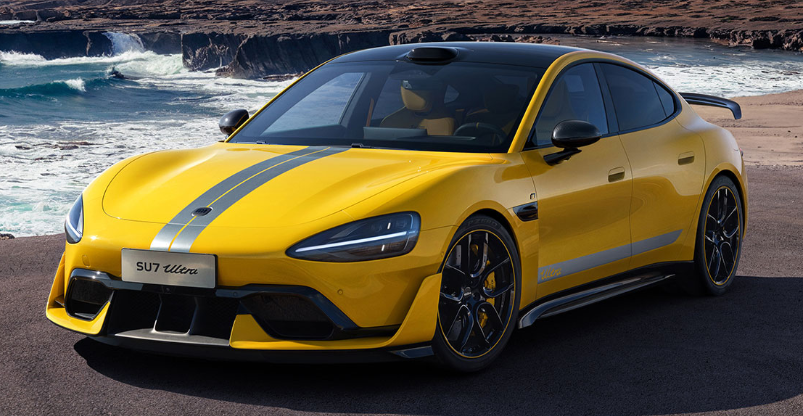su7: (50, 38, 748, 371)
